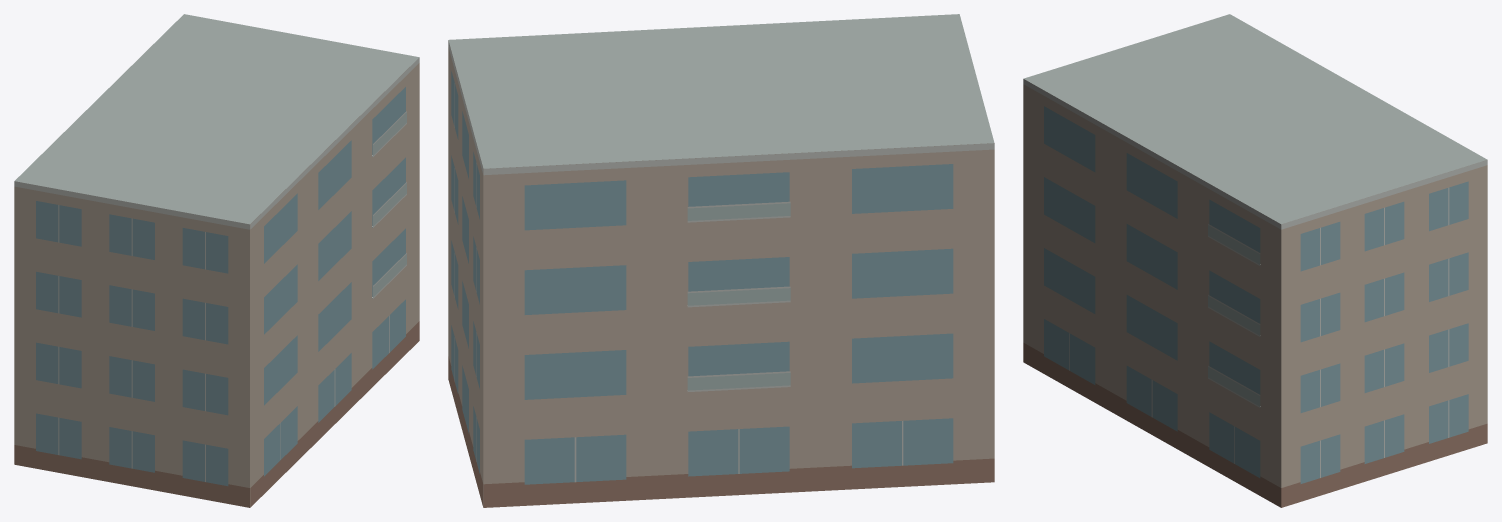
Rendered from residential-6745e91f-06c7-4d93-a021-53f20b2c7a0c.glb.
The picture shows the model from 3 angles, left to right: view 1: azimuth 30°, elevation 25°; view 2: azimuth 150°, elevation 25°; view 3: azimuth 270°, elevation 25°; orthographic projection. The views are drawn at different scales.
Visible parts, largest first — view 1: residential-6745e91f-06c7-4d93-a021-53f20b2c7a0c.tmp; view 2: residential-6745e91f-06c7-4d93-a021-53f20b2c7a0c.tmp; view 3: residential-6745e91f-06c7-4d93-a021-53f20b2c7a0c.tmp.
Part boxes in pixels (<box>): residential-6745e91f-06c7-4d93-a021-53f20b2c7a0c.tmp: <box>14,14,419,507</box>; residential-6745e91f-06c7-4d93-a021-53f20b2c7a0c.tmp: <box>448,14,994,507</box>; residential-6745e91f-06c7-4d93-a021-53f20b2c7a0c.tmp: <box>1023,14,1487,507</box>.
Bounding box in the file's own units: 20.37 × 12.8 × 19.
